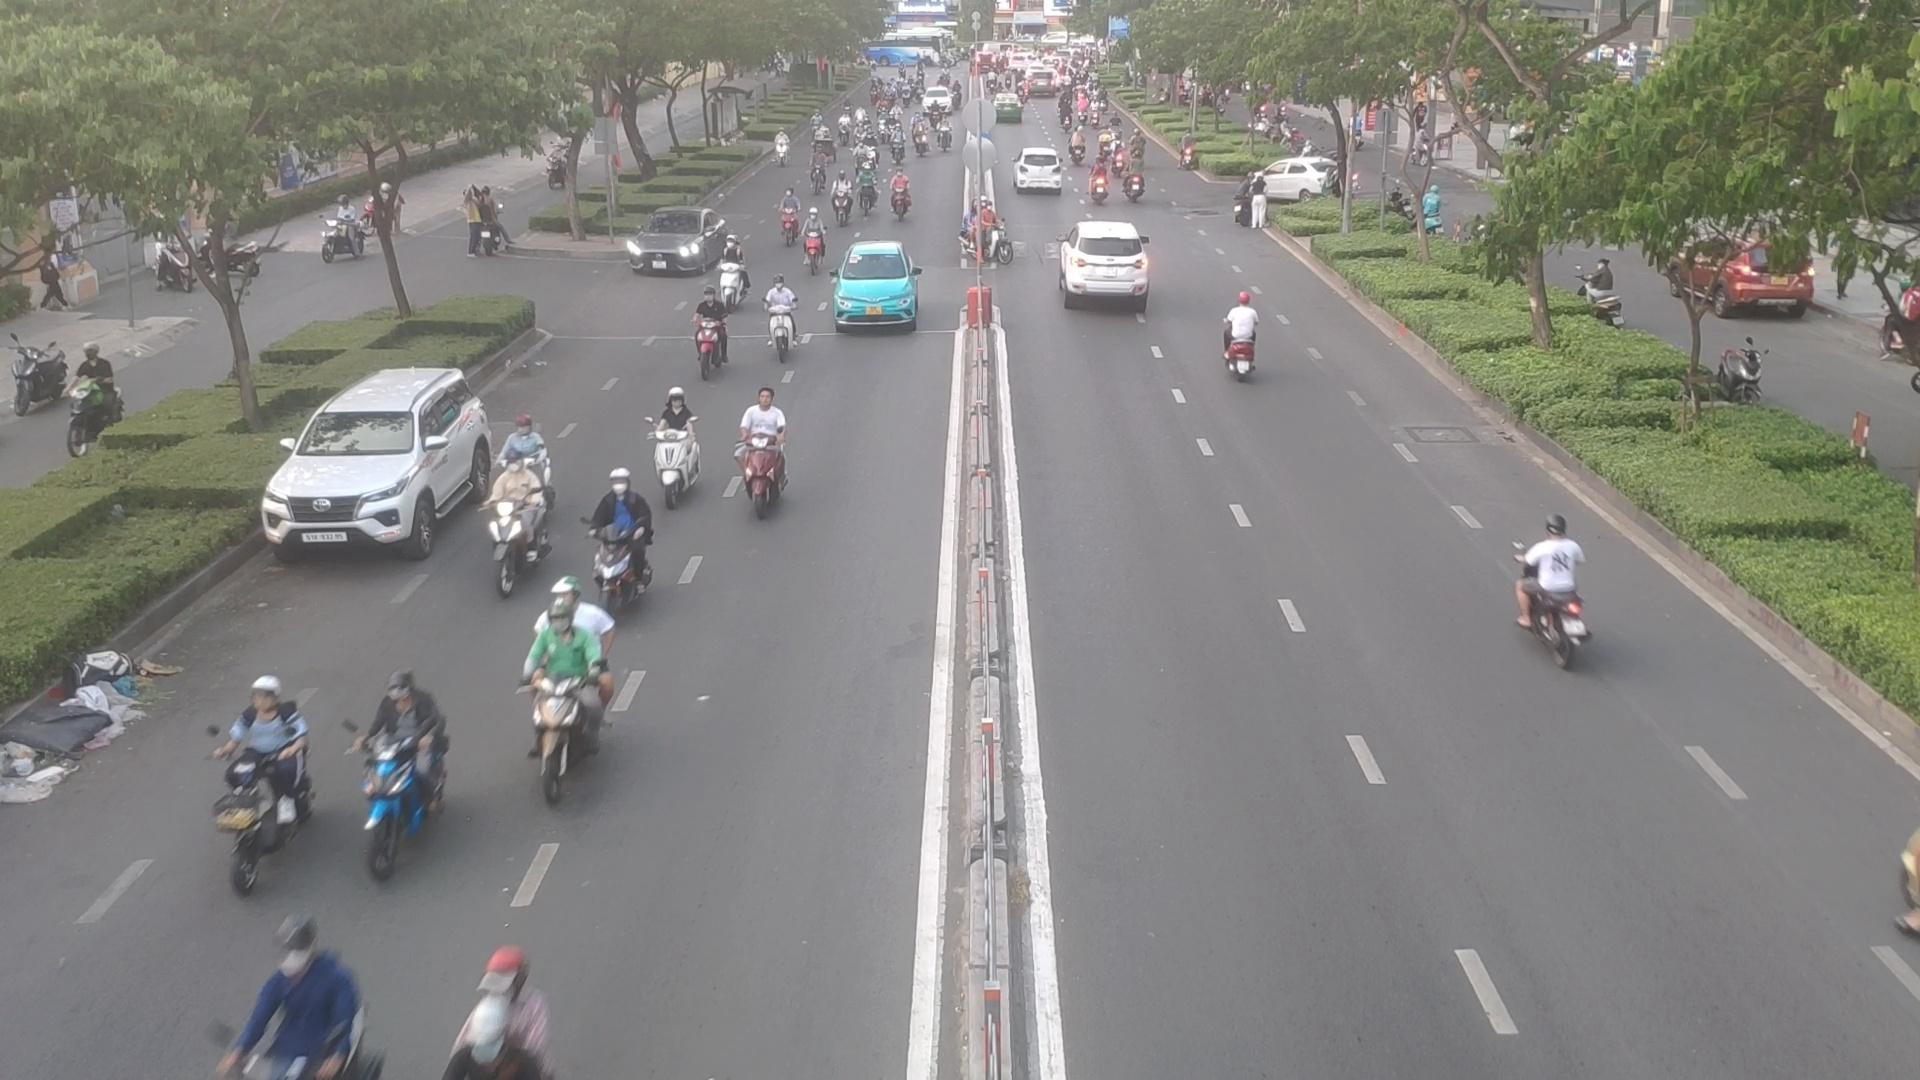car: (262, 364, 495, 566), (827, 237, 927, 334), (1054, 220, 1150, 305), (621, 207, 735, 278), (1251, 158, 1344, 204), (1015, 146, 1071, 190)
motorbike: (225, 667, 315, 901), (352, 676, 451, 874), (1497, 516, 1592, 684), (521, 611, 607, 789), (582, 462, 675, 609), (724, 390, 795, 516), (485, 467, 551, 585), (647, 386, 705, 510), (1218, 290, 1258, 378), (959, 200, 1009, 266), (688, 287, 728, 371), (716, 228, 752, 309), (767, 281, 799, 357), (800, 204, 828, 274), (855, 161, 882, 216), (779, 183, 802, 248), (1124, 156, 1153, 202), (889, 166, 914, 210), (811, 146, 832, 198), (833, 166, 852, 224), (769, 123, 791, 167), (1088, 156, 1108, 204), (889, 123, 907, 169), (1109, 135, 1125, 178), (938, 113, 953, 154), (911, 117, 924, 160), (855, 142, 873, 169)
